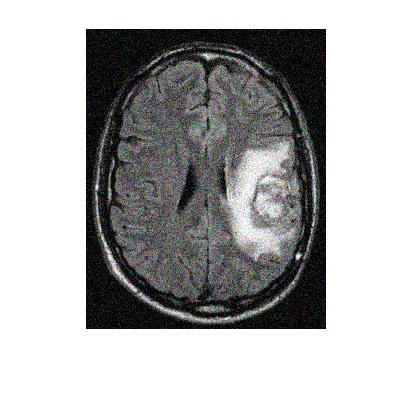Brain_Cancer: (237, 157, 305, 249)
